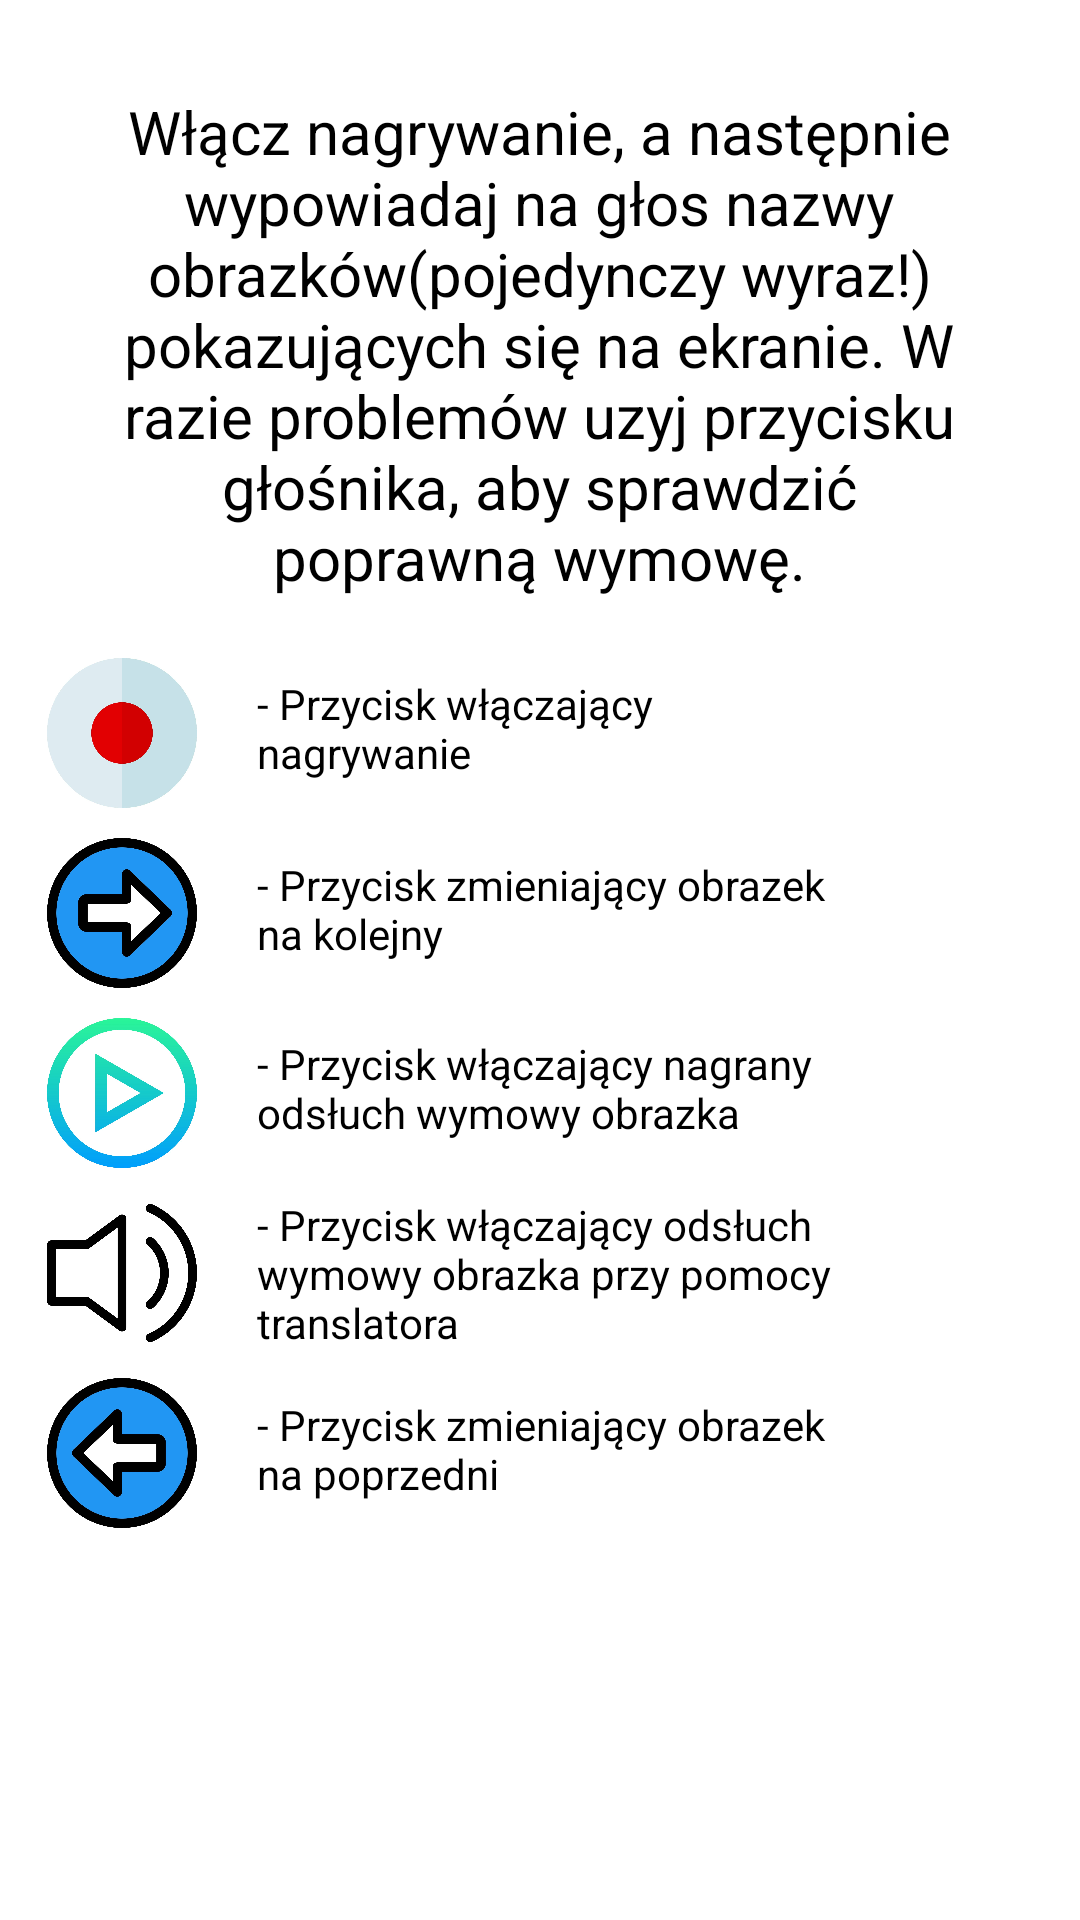

Named icons in this screenshot (1080*1920) and their bounding boxes, bbox(x1, y1, x2, y2):
next: bbox(47, 838, 197, 988)
play: bbox(47, 1018, 197, 1168)
previous: bbox(47, 1378, 197, 1528)
record: bbox(47, 658, 197, 808)
speaker: bbox(47, 1204, 197, 1342)
